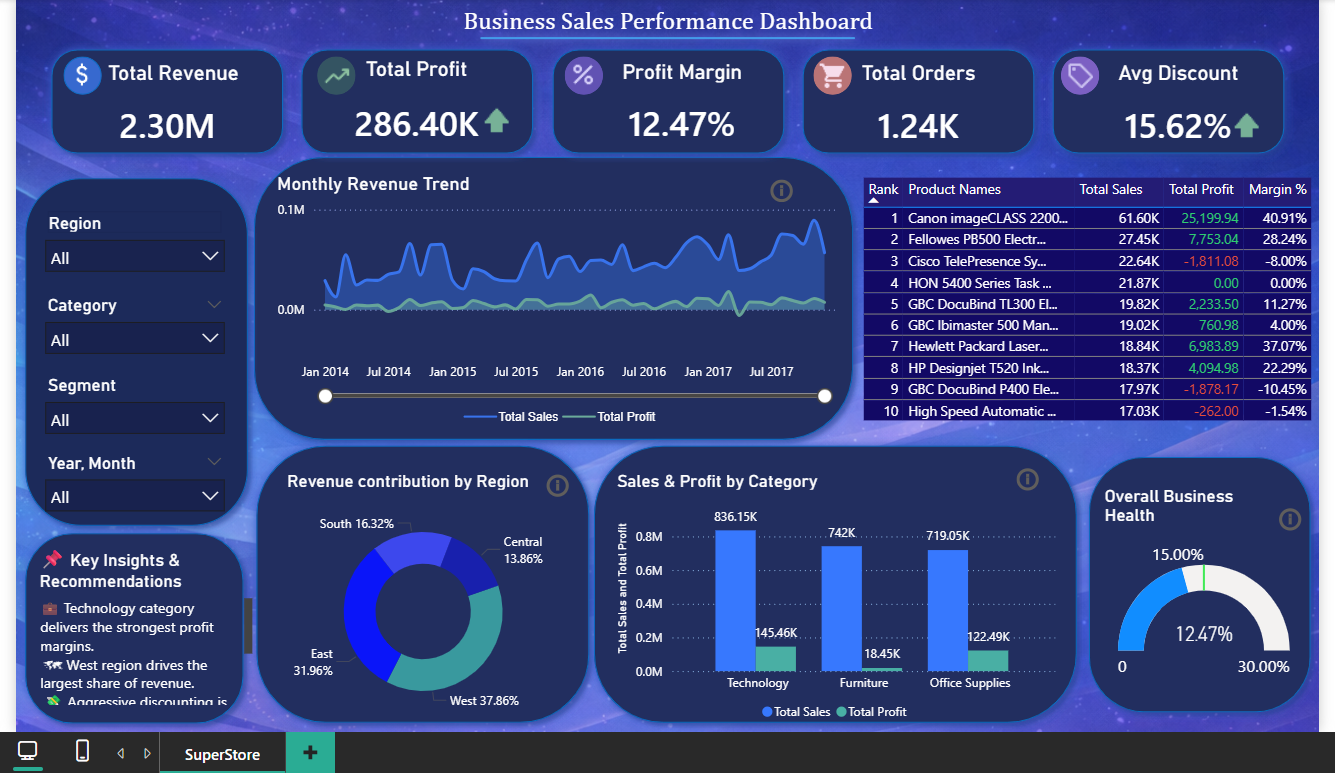

Layout of this report page (visuals, bound fields, positions):
{"tool":"powerbi","page":{"name":"Page 1","canvas":[1280,720],"ordinal":0},"visuals":[{"type":"shape","box":[25.8,40.5,245.4,120.2],"z":0},{"type":"cardVisual","title":"Total Revenue","fields":{"Data":["Measures (3).Total Sales"]},"box":[72.1,60.6,164.5,95.2],"z":1000},{"type":"shape","box":[225.1,145.7,606,295.8],"z":2000},{"type":"lineChart","title":"Monthly Revenue Trend","fields":{"Y":["Measures (3).Total Sales","Measures (3).Total Profit"],"Category":["Superstore Data.Order Date.Variation.Date Hierarchy.Year","Superstore Data.Order Date.Variation.Date Hierarchy.Month"]},"box":[261.1,171.7,569.9,258.3],"z":3000},{"type":"shape","box":[46.2,56.3,37.5,37.5],"z":4000},{"type":"textbox","box":[424.2,4.3,431.4,49.1],"z":5000},{"type":"shape","box":[447.3,20.2,383.8,37.5],"z":6000},{"type":"image","box":[50.5,59.2,28.9,30.3],"z":7000},{"type":"shape","box":[271.2,40.5,245.4,120.2],"z":8000},{"type":"shape","box":[517.8,40.5,245.4,120.2],"z":9000},{"type":"shape","box":[763.2,40.5,245.4,120.2],"z":10000},{"type":"shape","box":[1008.6,40.5,245.4,120.2],"z":11000},{"type":"cardVisual","title":"Total Profit","fields":{"Data":["Measures (3).Total Profit"]},"box":[300.6,56.4,185.3,98.2],"z":12000},{"type":"cardVisual","title":"Profit Margin","fields":{"Data":["Measures (3).Profit Margin %"]},"box":[571.3,59.2,164.5,95.2],"z":13000},{"type":"cardVisual","title":"Total Orders","fields":{"Data":["Measures (3).Total Orders"]},"box":[803.6,60.6,164.5,95.2],"z":14000},{"type":"cardVisual","title":"Avg Discount","fields":{"Data":["Measures (3).Avg Discount"]},"box":[1059,60.6,164.5,95.2],"z":15000},{"type":"shape","box":[295.8,56.3,37.5,37.5],"z":16000},{"type":"shape","box":[538.2,56.3,37.5,37.5],"z":17000},{"type":"shape","box":[783.4,56.3,37.5,37.5],"z":18000},{"type":"shape","box":[1025.8,56.3,37.5,37.5],"z":19000},{"type":"image","box":[300.1,60.6,28.9,30.3],"z":20000},{"type":"image","box":[542.5,59.2,28.9,30.3],"z":21000},{"type":"image","box":[787.7,60.6,28.9,30.3],"z":22000},{"type":"image","box":[1030.1,60.6,28.9,30.3],"z":23000},{"type":"shape","box":[226.5,429.9,344.8,290],"z":24000},{"type":"tableEx","title":"Top Revenue-Generating Products","fields":{"Values":["Measures (3).Product Rank","Superstore Data.Short Product Name","Measures (3).Total Sales","Measures (3).Total Profit","Measures (3).Profit Margin %"]},"box":[825.3,170.2,454.5,259.7],"z":25000},{"type":"shape","box":[0,167.4,236.6,359.2],"z":26000},{"type":"slicer","fields":{"Values":["Superstore Data.Region"]},"box":[18.8,203.4,196.2,75],"z":27000},{"type":"slicer","fields":{"Values":["Superstore Data.Category"]},"box":[18.8,285.7,196.2,75],"z":28000},{"type":"slicer","fields":{"Values":["Superstore Data.Segment"]},"box":[18.8,365,196.2,75],"z":29000},{"type":"slicer","fields":{"Values":["Superstore Data.Order Date.Variation.Date Hierarchy.Year","Superstore Data.Order Date.Variation.Date Hierarchy.Month"]},"box":[18.8,440,196.2,75],"z":30000},{"type":"image","box":[450.1,101,43.3,34.6],"z":31000},{"type":"image","box":[1185.9,105.3,43.3,34.6],"z":32000},{"type":"donutChart","title":"Revenue contribution by Region","fields":{"Y":["Measures (3).Total Profit"],"Category":["Superstore Data.Region"]},"box":[261.1,463.1,277,256.8],"z":33000},{"type":"shape","box":[558.3,429.9,492,290],"z":34000},{"type":"clusteredColumnChart","title":"Sales & Profit by Category","fields":{"Y":["Measures (3).Total Sales","Measures (3).Total Profit"],"Category":["Superstore Data.Category"]},"box":[585.8,463.1,440,255.4],"z":35000},{"type":"shape","box":[0,515.1,232.3,204.9],"z":36000},{"type":"textbox","title":"📌 Key Insights & Recommendations","box":[18.4,536.2,218.4,162],"z":37000},{"type":"shape","box":[1044.2,440.5,235.6,268.7],"z":38000},{"type":"gauge","title":"Overall Business Health","fields":{"Y":["Measures (3).Margin %"],"MaxValue":["Measures (3).Maximum"],"MinValue":["Measures (3).Minimum"],"TargetValue":["Measures (3).Dynamic Target"]},"box":[1063.3,477.6,204.9,199.1],"z":39000},{"type":"actionButton","box":[978.2,455.9,37.5,30.3],"z":40000},{"type":"actionButton","box":[516.5,463.1,37.5,30.3],"z":40001},{"type":"actionButton","box":[763.2,167.4,37.5,30.3],"z":40002},{"type":"actionButton","box":[1235,496.3,37.5,30.3],"z":40003}]}

Visuals, with their boxes on the page's 1280x720 design canvas (x1, y1, x2, y2). These are canvas units, not pixel positions in the 1335x773 screenshot, which may show the page scaled, cropped or inside an application window:
shape: 26 40 271 161
"Total Revenue" cardVisual: 72 61 237 156
shape: 225 146 831 442
"Monthly Revenue Trend" lineChart: 261 172 831 430
shape: 46 56 84 94
textbox: 424 4 856 53
shape: 447 20 831 58
image: 50 59 79 90
shape: 271 40 517 161
shape: 518 40 763 161
shape: 763 40 1009 161
shape: 1009 40 1254 161
"Total Profit" cardVisual: 301 56 486 155
"Profit Margin" cardVisual: 571 59 736 154
"Total Orders" cardVisual: 804 61 968 156
"Avg Discount" cardVisual: 1059 61 1224 156
shape: 296 56 333 94
shape: 538 56 576 94
shape: 783 56 821 94
shape: 1026 56 1063 94
image: 300 61 329 91
image: 542 59 571 90
image: 788 61 817 91
image: 1030 61 1059 91
shape: 226 430 571 720
"Top Revenue-Generating Products" tableEx: 825 170 1280 430
shape: 0 167 237 527
slicer - Superstore Data.Region: 19 203 215 278
slicer - Superstore Data.Category: 19 286 215 361
slicer - Superstore Data.Segment: 19 365 215 440
slicer - Superstore Data.Order Date.Variation.Date Hierarchy.Year x Superstore Data.Order Date.Variation.Date Hierarchy.Month: 19 440 215 515
image: 450 101 493 136
image: 1186 105 1229 140
"Revenue contribution by Region" donutChart: 261 463 538 720
shape: 558 430 1050 720
"Sales & Profit by Category" clusteredColumnChart: 586 463 1026 718
shape: 0 515 232 720
"📌 Key Insights & Recommendations" textbox: 18 536 237 698
shape: 1044 440 1280 709
"Overall Business Health" gauge: 1063 478 1268 677
actionButton: 978 456 1016 486
actionButton: 516 463 554 493
actionButton: 763 167 801 198
actionButton: 1235 496 1272 527
